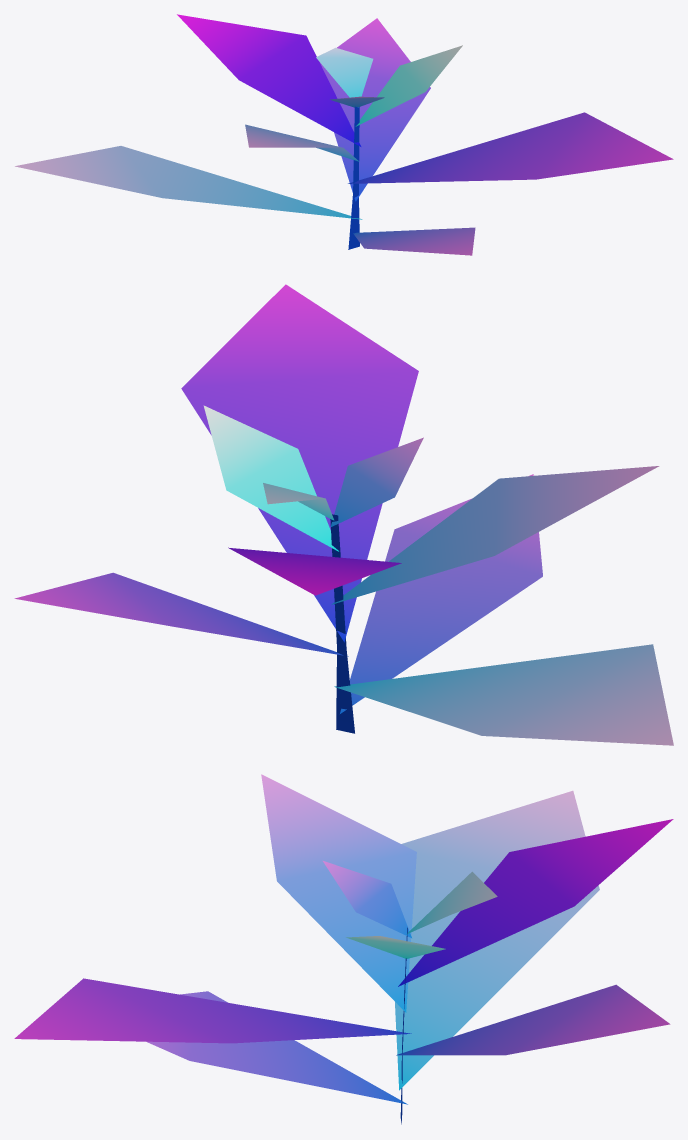
The model's file is xefmcgrqx_VarA_LOD2.fbx.
The picture shows the model from 3 angles, top to bottom: view 1: azimuth 30°, elevation 25°; view 2: azimuth 150°, elevation 25°; view 3: azimuth 270°, elevation 25°; orthographic projection. The views are drawn at different scales.
Visible parts, largest first — view 1: _jbmt_VarA_LOD5; view 2: _jbmt_VarA_LOD5; view 3: _jbmt_VarA_LOD5.
Part boxes in pixels (x1,y1,x2,y2): _jbmt_VarA_LOD5: [15, 14, 673, 255]; _jbmt_VarA_LOD5: [14, 284, 673, 745]; _jbmt_VarA_LOD5: [14, 774, 673, 1124].
Bounding box in the file's own units: 26.78 × 10.3 × 24.21.
